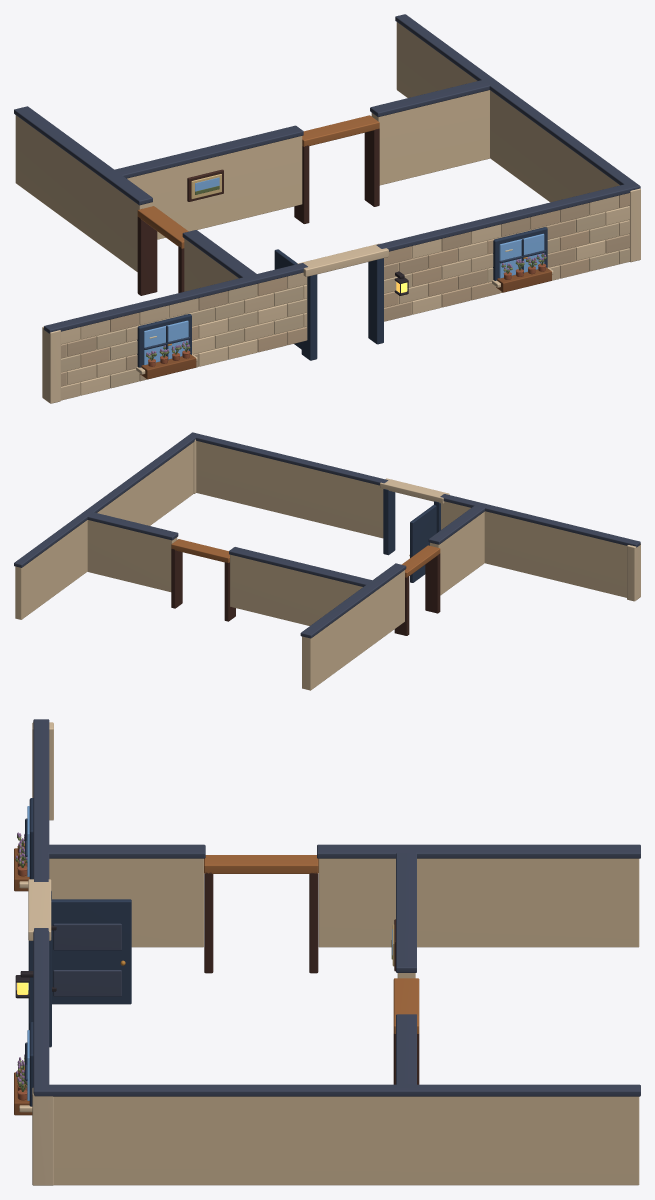
The model's file is upper-walls.glb.
3 views of the same model, one above another, from view 1: azimuth 30°, elevation 25°; view 2: azimuth 150°, elevation 25°; view 3: azimuth 270°, elevation 25° (orthographic). The views are drawn at different scales.
Visible parts, largest first — view 1: upper_walls_pivot_Mesh; view 2: upper_walls_pivot_Mesh; view 3: upper_walls_pivot_Mesh.
Boxes of the visible parts, left/top/right/bottom form: upper_walls_pivot_Mesh: left=14, top=14, right=640, bottom=403; upper_walls_pivot_Mesh: left=14, top=432, right=640, bottom=690; upper_walls_pivot_Mesh: left=14, top=719, right=640, bottom=1185.
Size of the model in its own units: 18.61 by 2.79 by 13.25.
